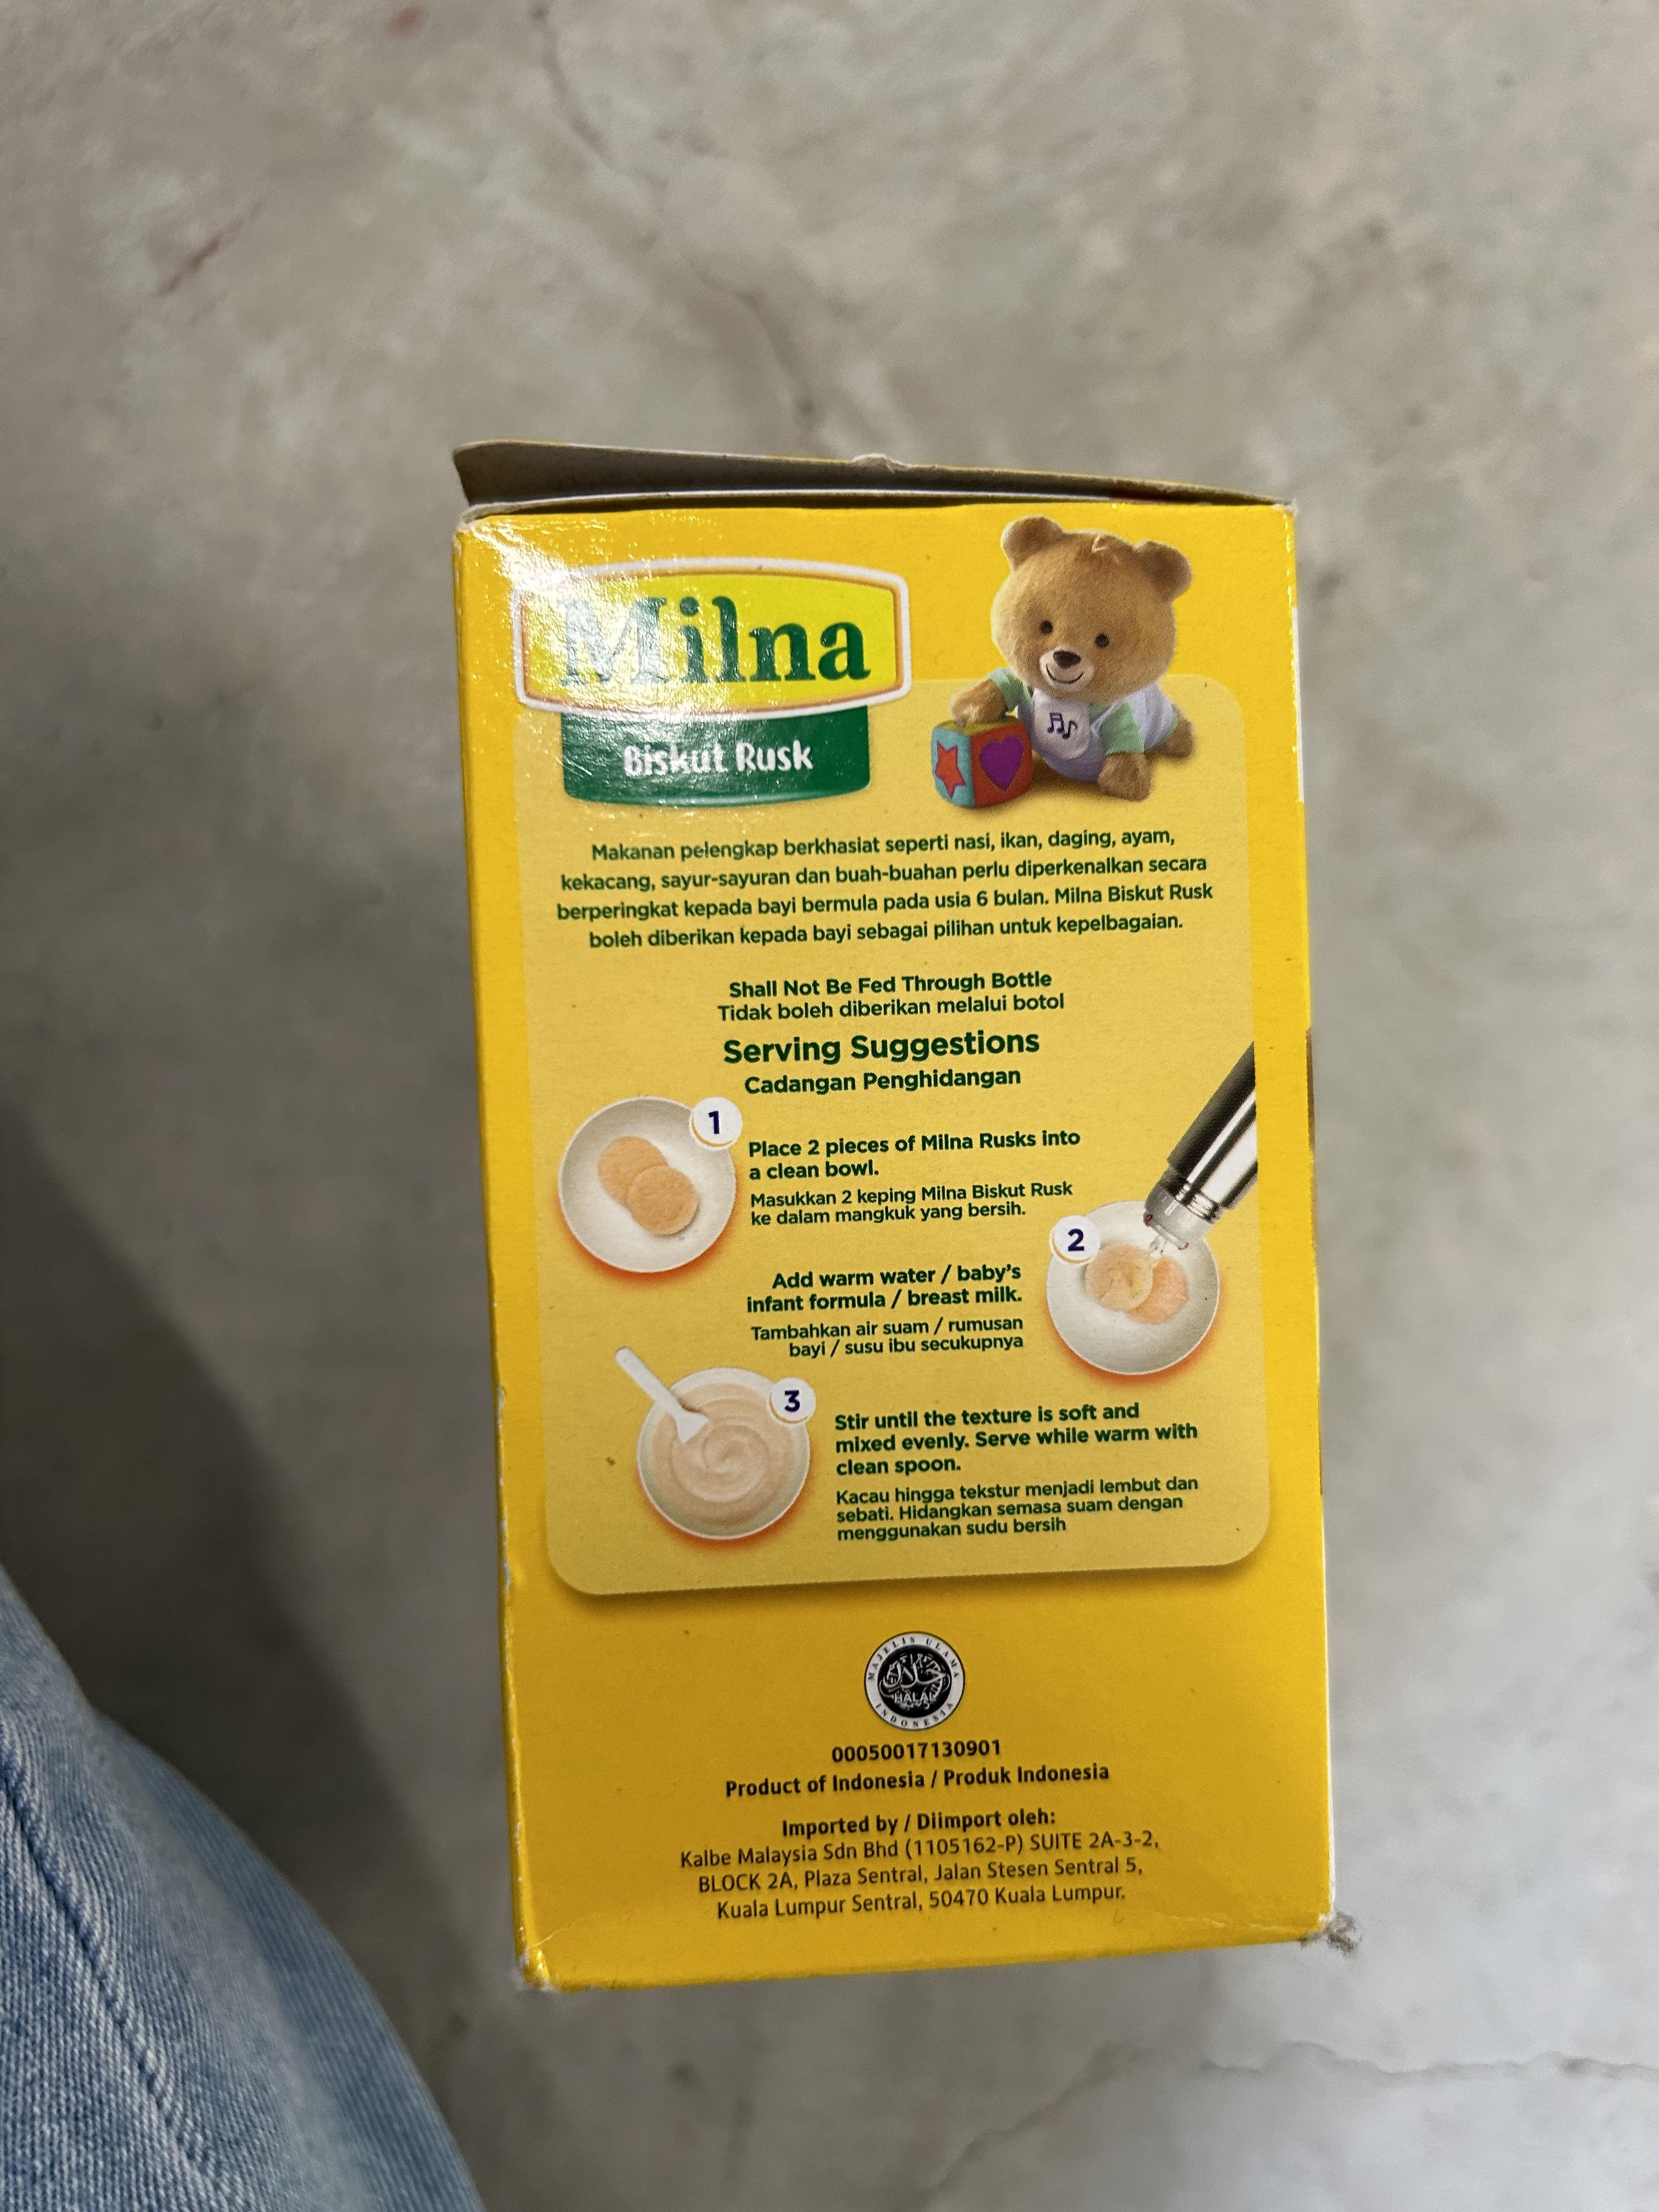object_name: (465, 448, 1317, 1935)
